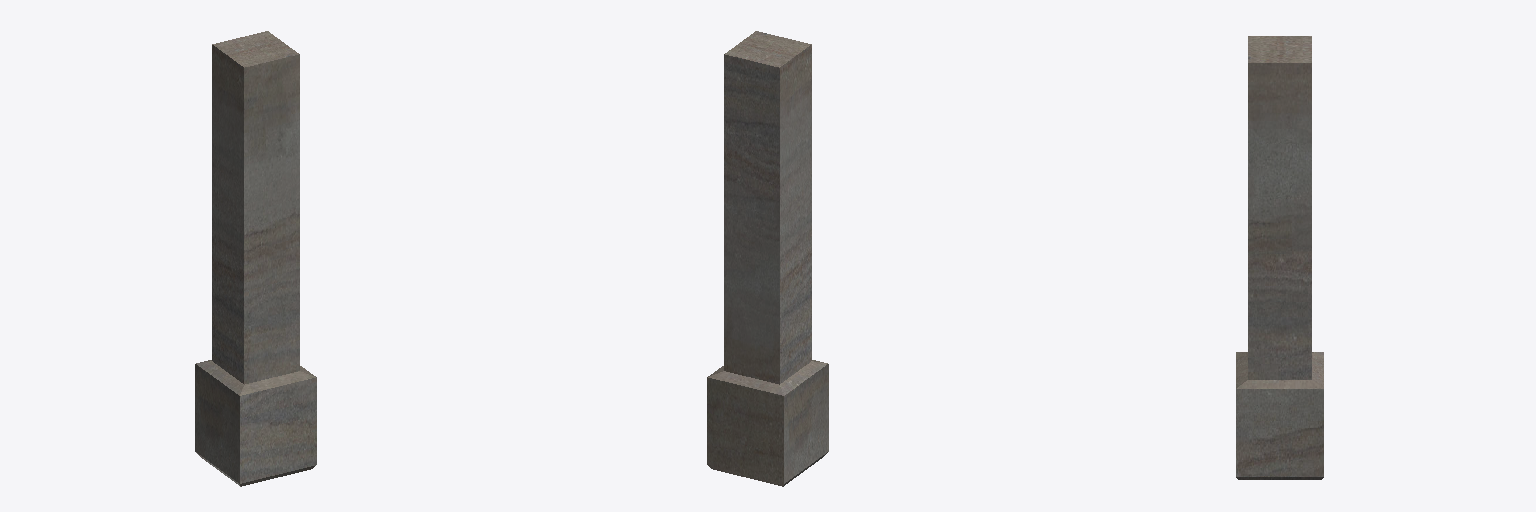
3 views of the same model, side by side, from view 1: azimuth 30°, elevation 25°; view 2: azimuth 150°, elevation 25°; view 3: azimuth 270°, elevation 25° (orthographic).
Parts seen in each view (by area): view 1: column_9; view 2: column_9; view 3: column_9.
Boxes of the visible parts, x1=… form: column_9: x1=195, y1=31, x2=316, y2=486; column_9: x1=707, y1=31, x2=828, y2=486; column_9: x1=1236, y1=36, x2=1323, y2=479.
Bounding box in the file's own units: 0.4162 × 2.14 × 0.4162.
1 materials, 1 textured.